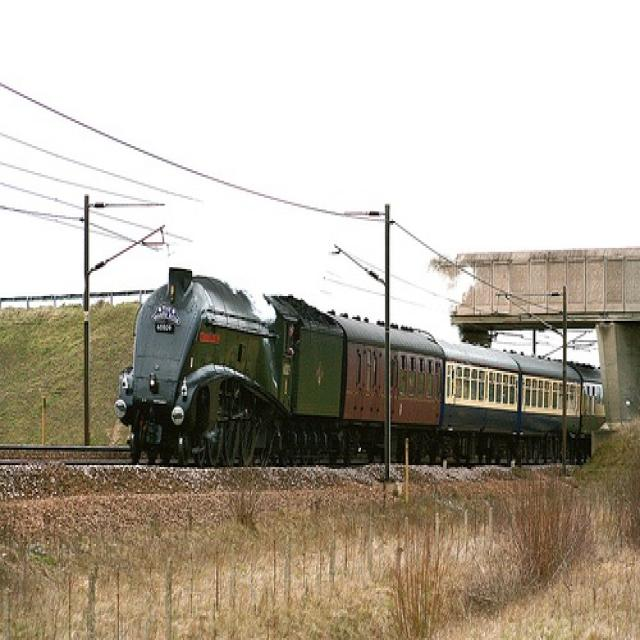train: (117, 265, 604, 465)
